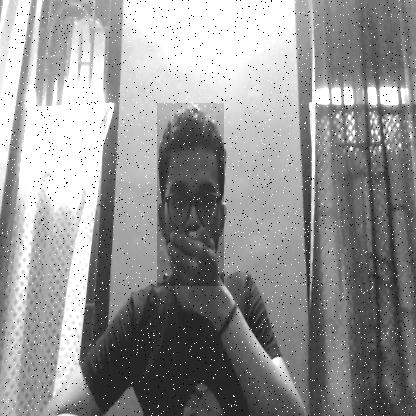Normal: (157, 103, 224, 286)
